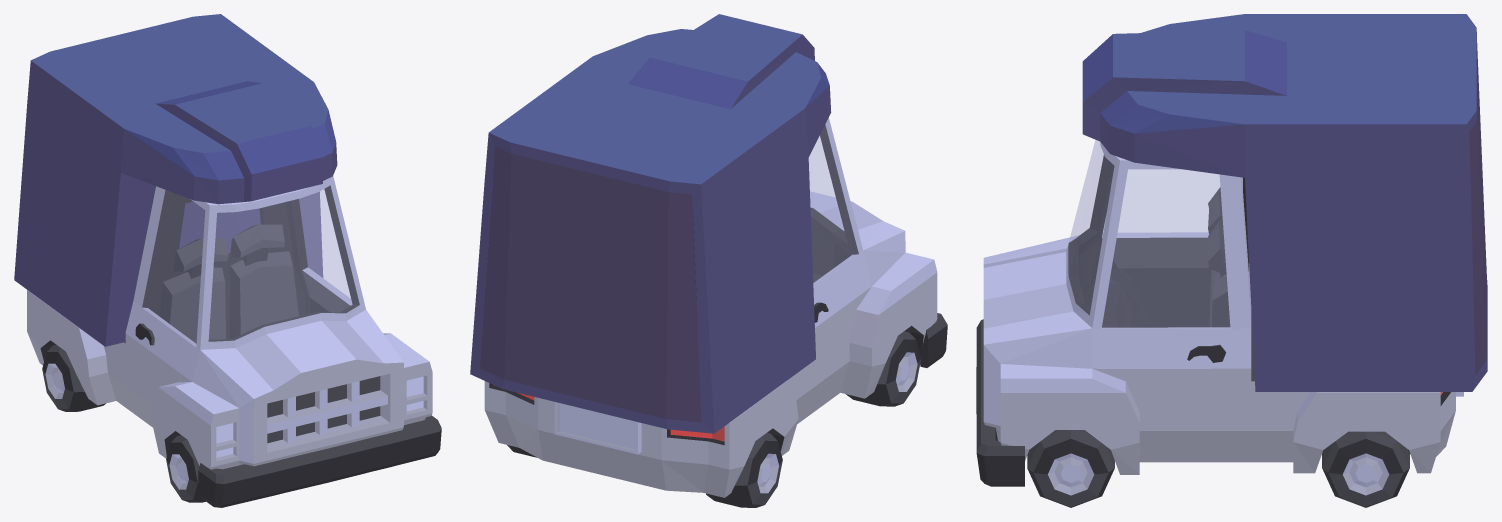
The model's file is cool-blue-delivery-truck.glb.
3 renders of one model, left to right at view 1: azimuth 30°, elevation 25°; view 2: azimuth 150°, elevation 25°; view 3: azimuth 270°, elevation 25°, orthographic. The views are drawn at different scales.
Visible parts, largest first — view 1: Car02_3_AdB, Car02_3, Car02_3_DR, Car02_3_AdF, Car02_3_DL, Car02_3_WhBR, Car02_3_WhFR; view 2: Car02_3_AdB, Car02_3, Car02_3_DR, Car02_3_WhBR, Car02_3_WhFR, Car02_3_AdF; view 3: Car02_3_AdB, Car02_3, Car02_3_DL, Car02_3_DR, Car02_3_WhBL, Car02_3_WhFL, Car02_3_AdF.
Part boxes in pixels (box(x1,y1,x2,y2)): Car02_3_AdB: box(14, 14, 337, 346); Car02_3: box(27, 176, 432, 469); Car02_3_DR: box(134, 190, 204, 413); Car02_3_AdF: box(198, 415, 441, 507); Car02_3_DL: box(299, 190, 352, 313); Car02_3_WhBR: box(42, 344, 105, 411); Car02_3_WhFR: box(166, 435, 205, 502); Car02_3_AdB: box(470, 14, 831, 433); Car02_3: box(484, 117, 937, 497); Car02_3_DR: box(803, 125, 859, 404); Car02_3_WhBR: box(706, 432, 782, 507); Car02_3_WhFR: box(846, 331, 921, 406); Car02_3_AdF: box(920, 313, 947, 367); Car02_3_AdB: box(1082, 14, 1487, 391); Car02_3: box(983, 140, 1463, 474); Car02_3_DL: box(1101, 169, 1230, 443); Car02_3_DR: box(1102, 170, 1219, 327); Car02_3_WhBL: box(1322, 431, 1409, 507); Car02_3_WhFL: box(1027, 430, 1114, 507); Car02_3_AdF: box(976, 319, 1024, 486).
Size of the model in its own units: 2.93 by 4.09 by 4.82.
4 materials, 4 textured.
